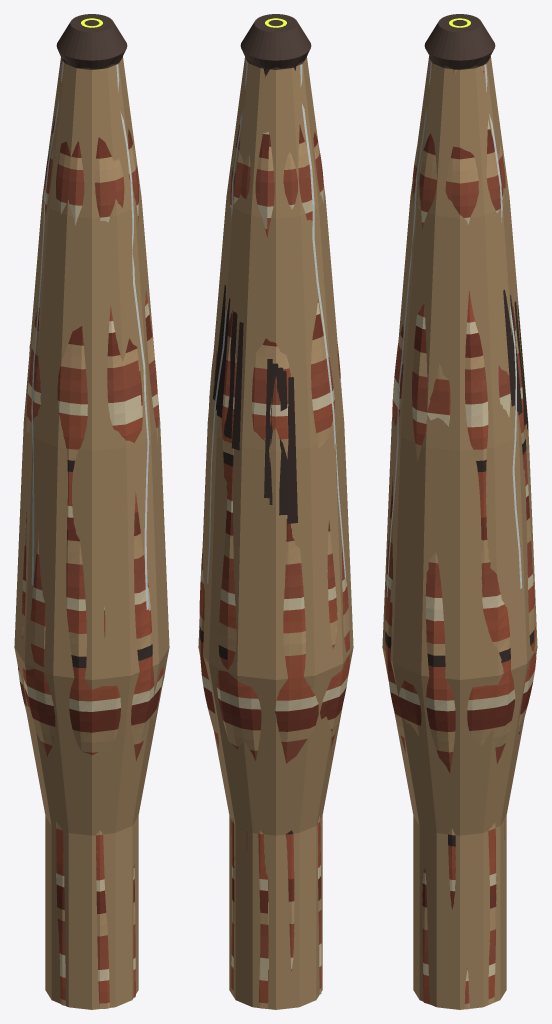
File: landmark_spire.glb
3 views of the same model, side by side, from view 1: azimuth 30°, elevation 25°; view 2: azimuth 150°, elevation 25°; view 3: azimuth 270°, elevation 25° (orthographic).
Visible parts, largest first — view 1: landmark_spire-col-col, landmark_spire; view 2: landmark_spire-col-col, landmark_spire; view 3: landmark_spire-col-col, landmark_spire.
Boxes of the visible parts, x1,y1,x2,y2 form: landmark_spire-col-col: (14, 14, 169, 1009); landmark_spire: (18, 14, 165, 1008); landmark_spire-col-col: (198, 14, 353, 1009); landmark_spire: (199, 14, 349, 1008); landmark_spire-col-col: (382, 14, 537, 1009); landmark_spire: (385, 14, 536, 1009).
Bounding box in the file's own units: 50 × 344 × 50.
